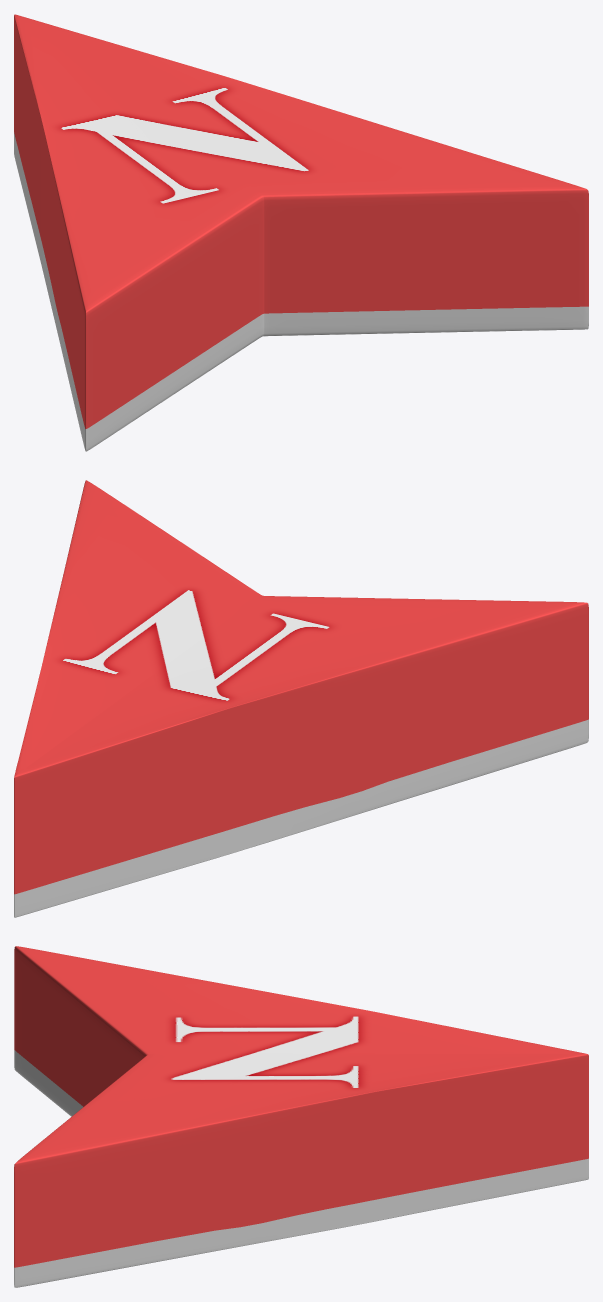
The model's file is arrowFinal.fbx.
3 renders of one model, top to bottom at view 1: azimuth 30°, elevation 25°; view 2: azimuth 150°, elevation 25°; view 3: azimuth 270°, elevation 25°, orthographic. The views are drawn at different scales.
Parts seen in each view (by area): view 1: pCube1; view 2: pCube1; view 3: pCube1.
Part boxes in pixels (box(x1,y1,x2,y2)): pCube1: box(14, 14, 588, 451); pCube1: box(14, 480, 588, 917); pCube1: box(14, 946, 588, 1287).
Bounding box in the file's own units: 0.8949 × 0.2488 × 0.9961.
